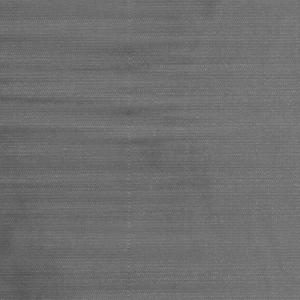Wrinkle: (1, 5, 258, 199)
